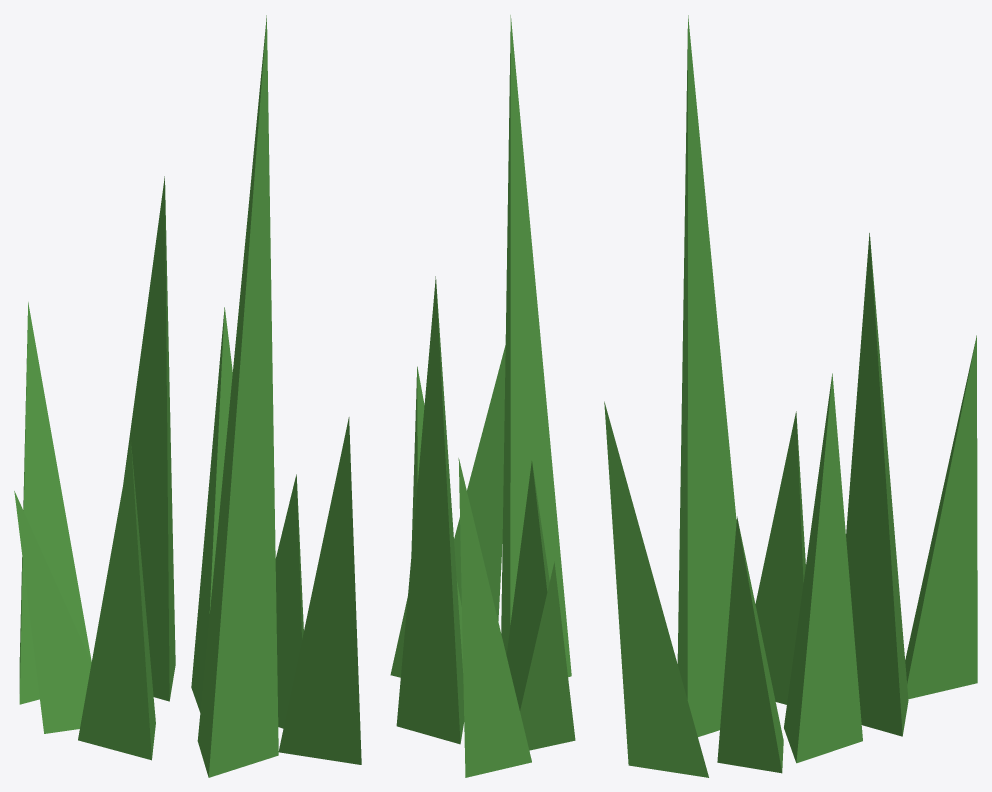
File: grass04.fbx
3 views of the same model, side by side, from view 1: azimuth 30°, elevation 25°; view 2: azimuth 150°, elevation 25°; view 3: azimuth 270°, elevation 25° (orthographic). The views are drawn at different scales.
Visible parts, largest first — view 1: grass04; view 2: grass04; view 3: grass04.
Part boxes in pixels (left/top/right/bottom): grass04: left=14, top=15, right=361, bottom=777; grass04: left=390, top=15, right=575, bottom=777; grass04: left=604, top=15, right=977, bottom=777.
Bounding box in the file's own units: 47.54 × 141 × 66.11.
